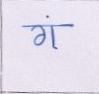anusvara: (46, 15, 49, 18)
